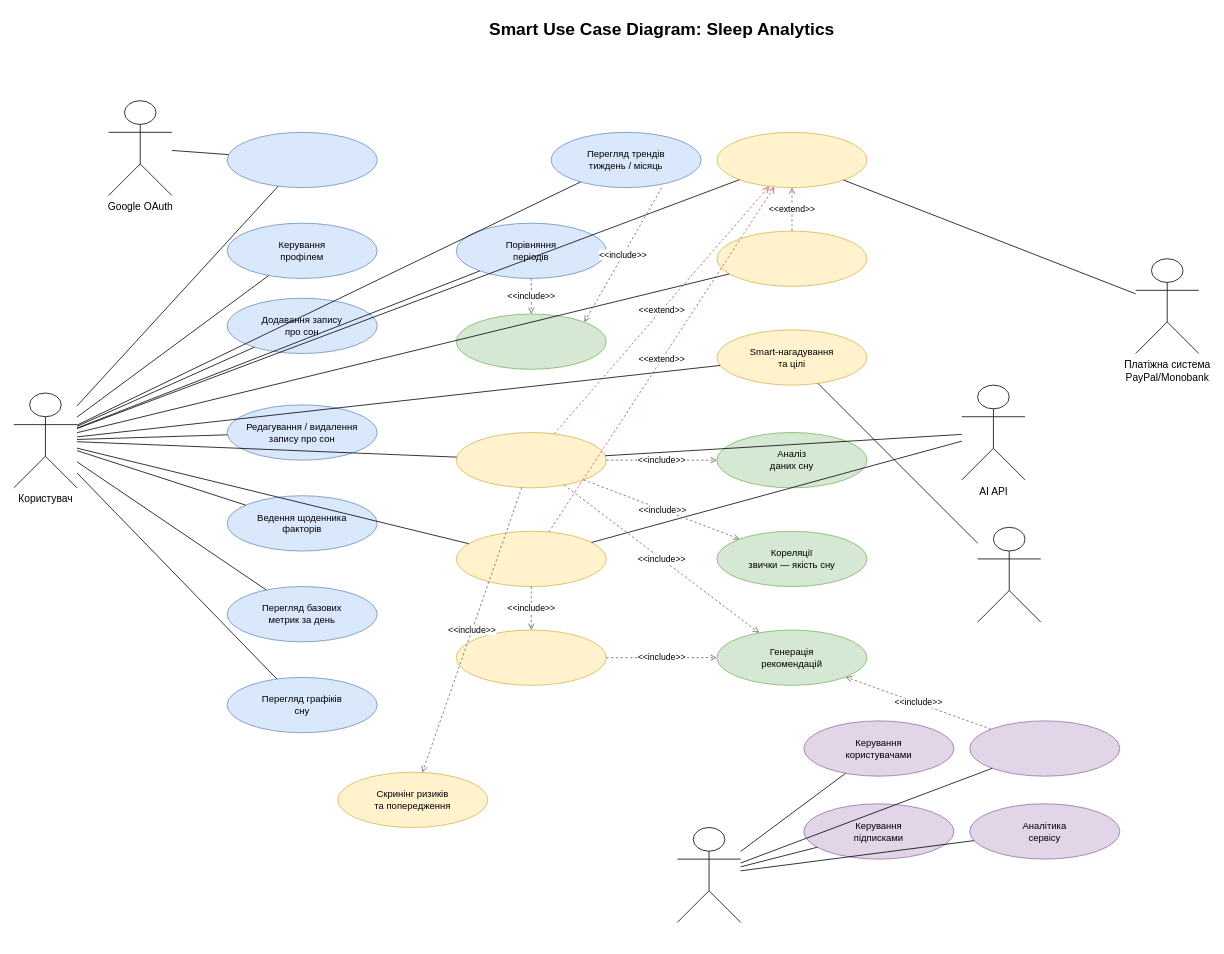
This 1224x954 diagram has some shape labels left out. Each missing label, with the box of its shape:
Push Notification Service: (977, 527, 1041, 622)
Адміністратор: (677, 827, 741, 922)
Аналіз sleep debt, регулярності та ефективності: (455, 313, 606, 369)
Експорт звіту: (716, 230, 867, 286)
Керування правилами рекомендацій: (969, 720, 1120, 776)
Отримання AI-звіту: (455, 432, 606, 488)
Оформлення Premium підписки: (716, 132, 867, 188)
Персональний план покращення сну: (455, 629, 606, 685)
Реєстрація / вхід через Google: (226, 132, 377, 188)
Спілкування з AI-асистентом: (455, 530, 606, 587)
